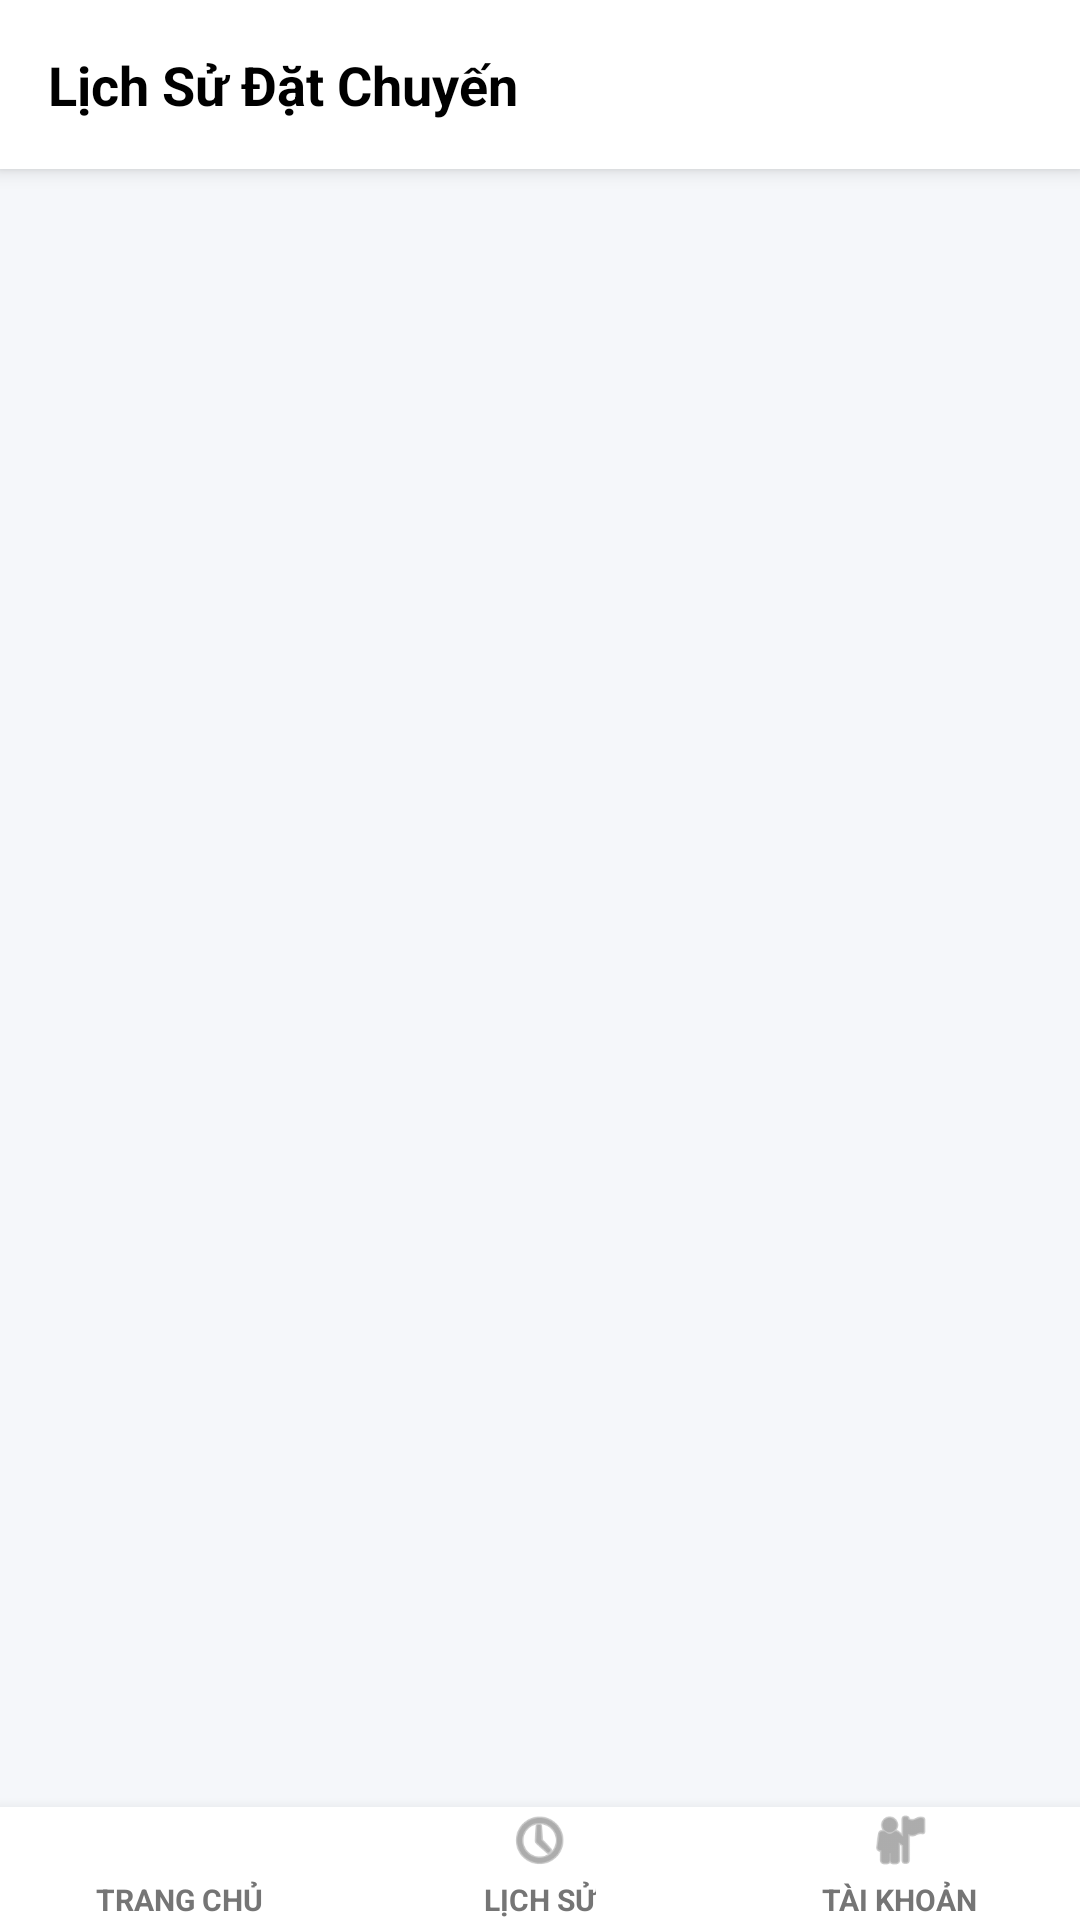

Where to tap for icons on this 1080px x 1920px app screen, as (x=x, y=y):
myplaces: (x=900, y=1840)
